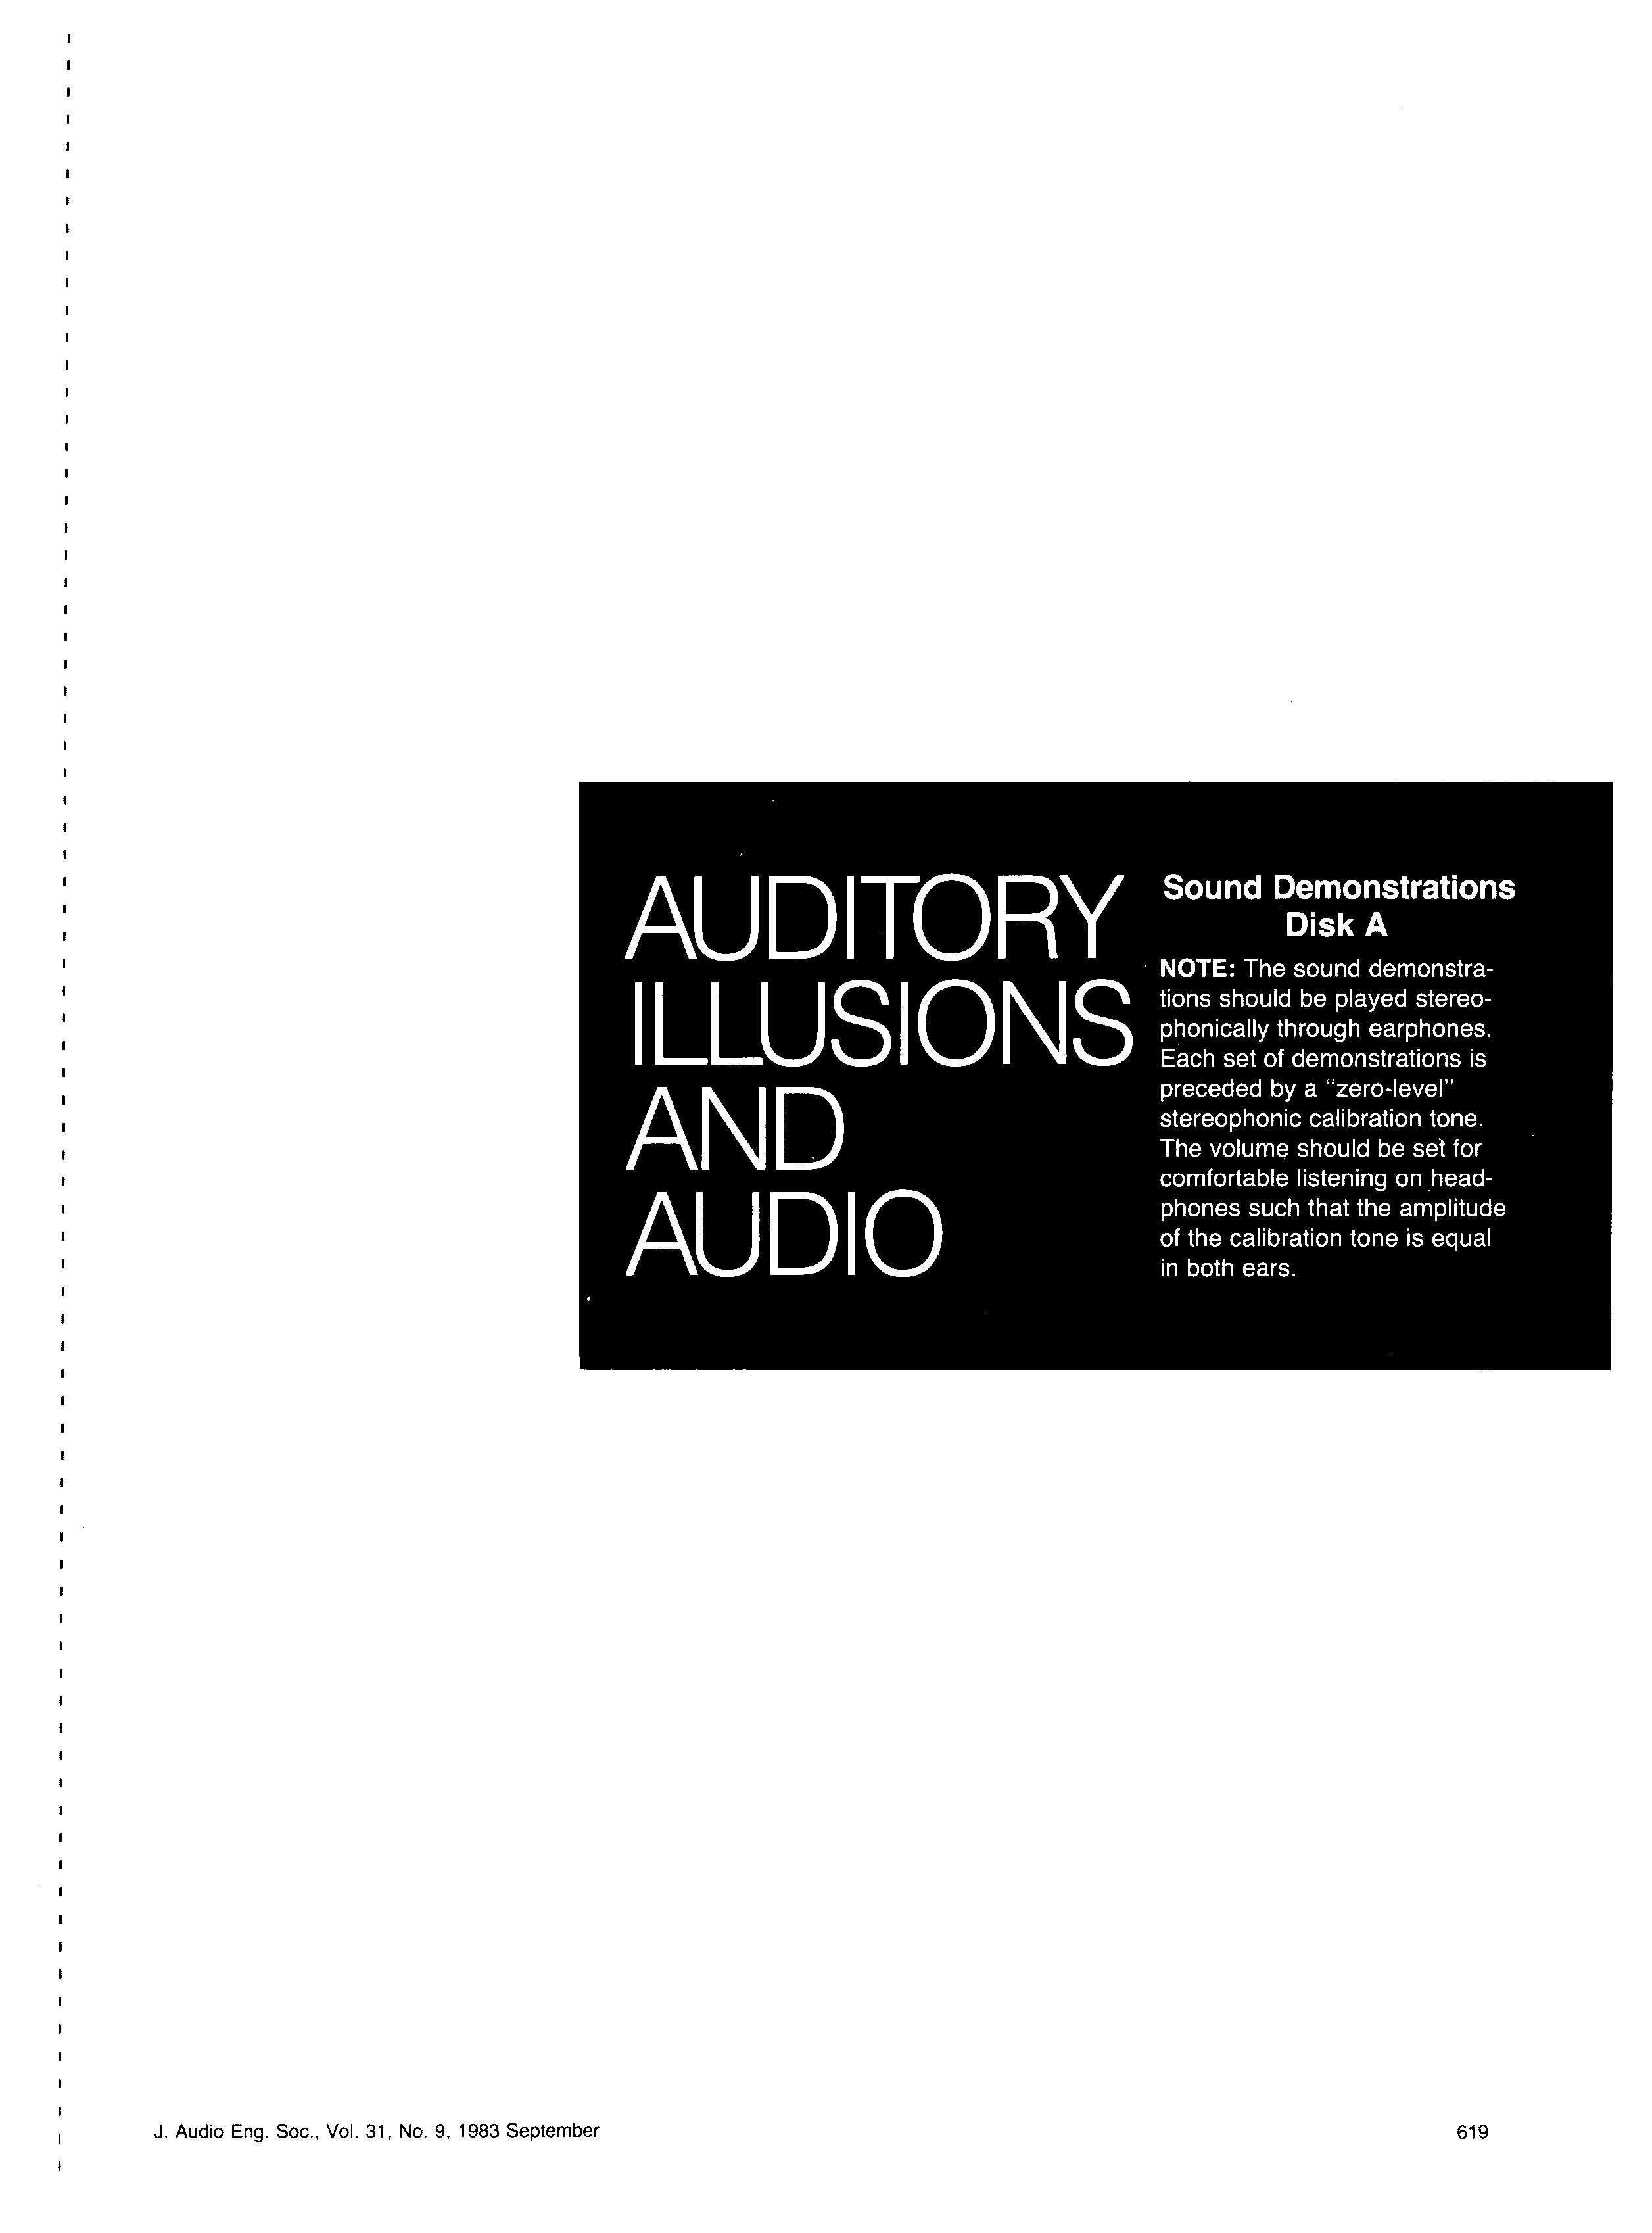section: (623, 864, 1126, 1279), (1171, 854, 1527, 949)
text: (1157, 959, 1498, 1296)
